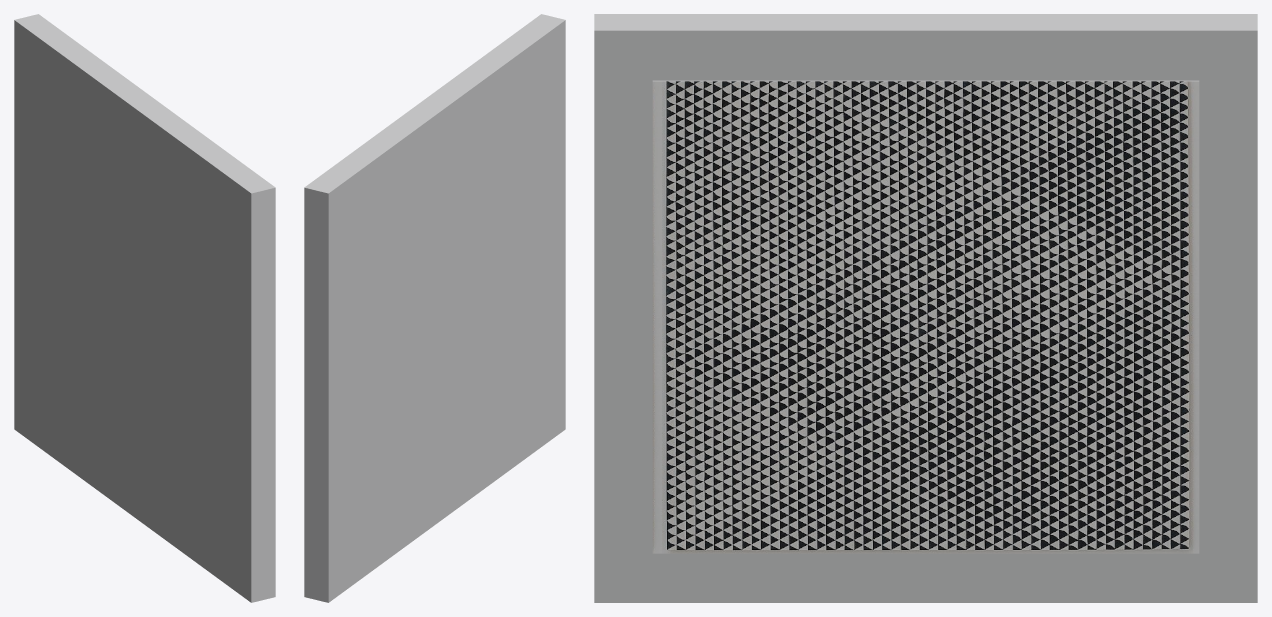
Rendered from Zittern-BridgetRiley.fbx.
The picture shows the model from 3 angles, left to right: view 1: azimuth 30°, elevation 25°; view 2: azimuth 150°, elevation 25°; view 3: azimuth 270°, elevation 25°; orthographic projection. The views are drawn at different scales.
Visible parts, largest first — view 1: Canvas.001; view 2: Canvas.001; view 3: Canvas.001.
Part boxes in pixels (<box>): Canvas.001: <box>14,14,275,602</box>; Canvas.001: <box>304,14,565,602</box>; Canvas.001: <box>594,14,1257,602</box>.
Bounding box in the file's own units: 37.86 × 583 × 613.
Materials: 2 (1 with a texture image).
